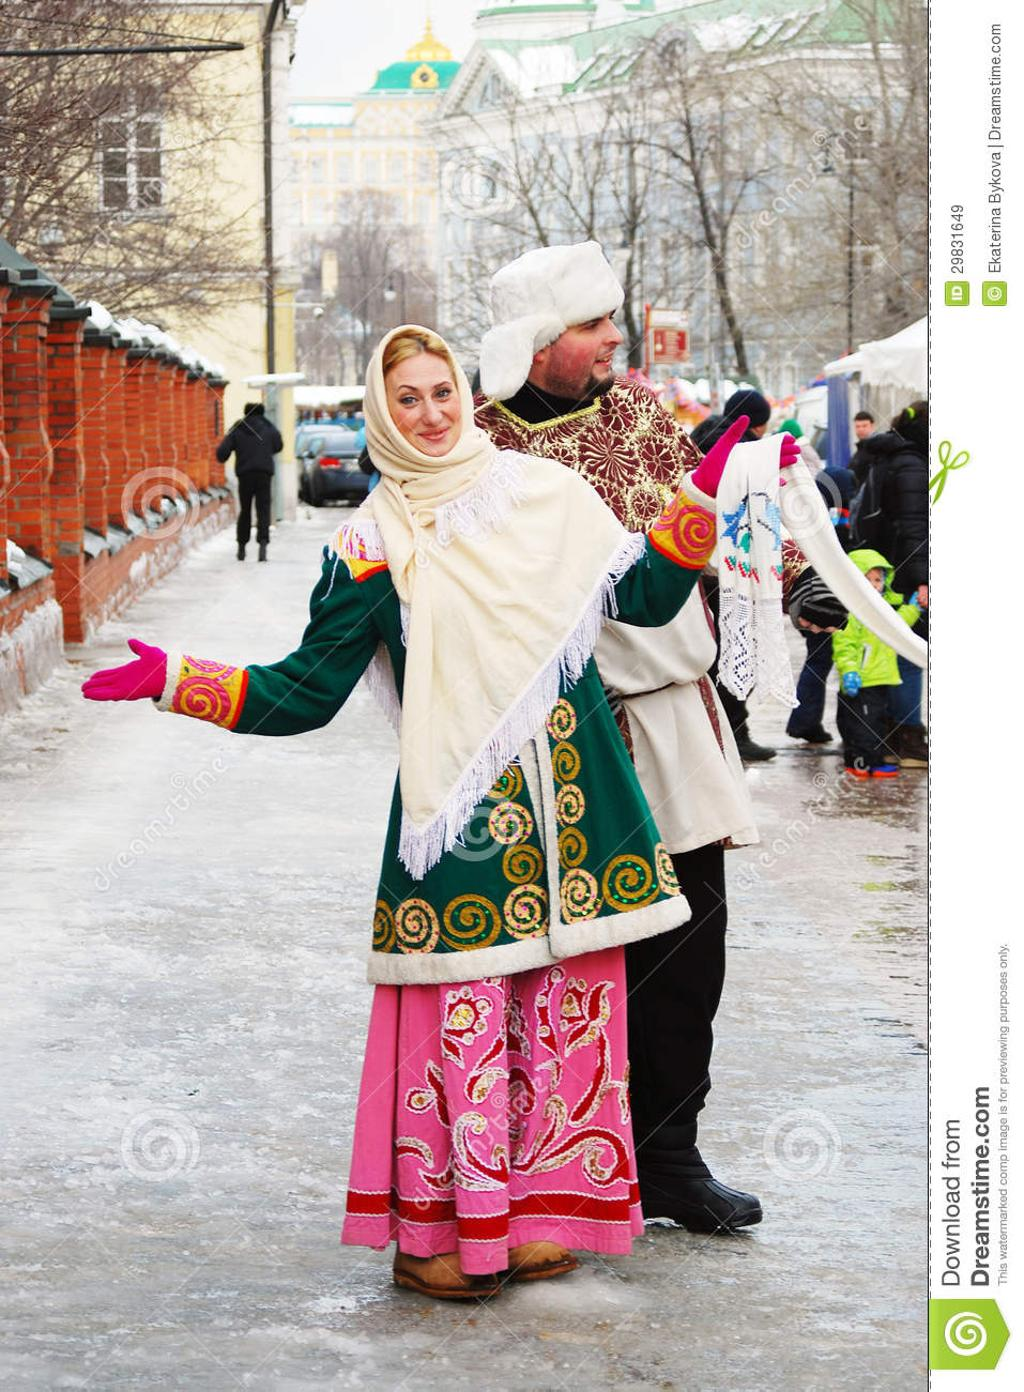face: (386, 353, 459, 456), (549, 280, 620, 383)
